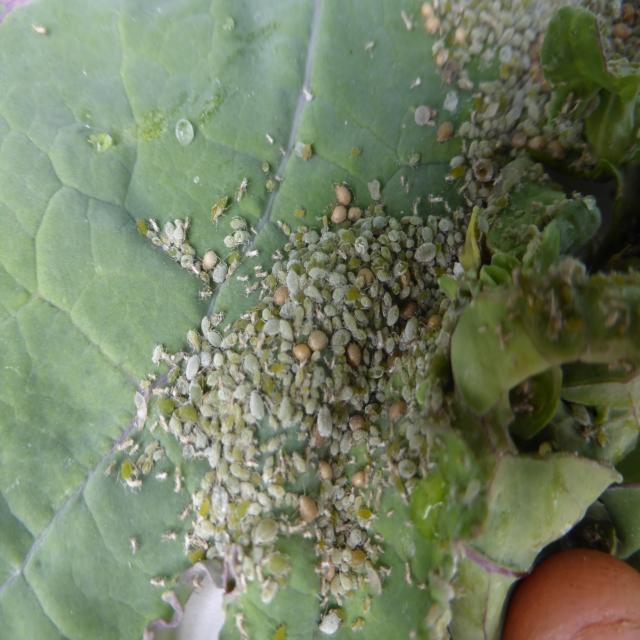Aphid-Grouped-: (130, 190, 489, 604), (426, 7, 577, 210)
